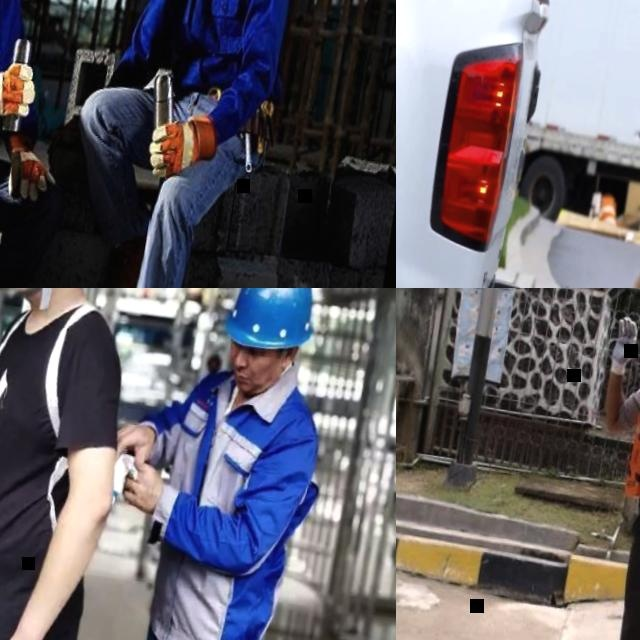Hardhat: (213, 288, 324, 360)
NO-Mask: (231, 368, 268, 399)
NO-Safety Vest: (137, 372, 316, 640), (0, 292, 117, 640), (146, 0, 274, 103)
Person: (67, 288, 351, 640), (25, 0, 324, 288), (0, 288, 173, 640), (540, 288, 640, 640), (0, 0, 108, 288), (579, 0, 640, 288)
Safety Cone: (598, 196, 620, 226)
vehicle: (396, 0, 640, 288)
